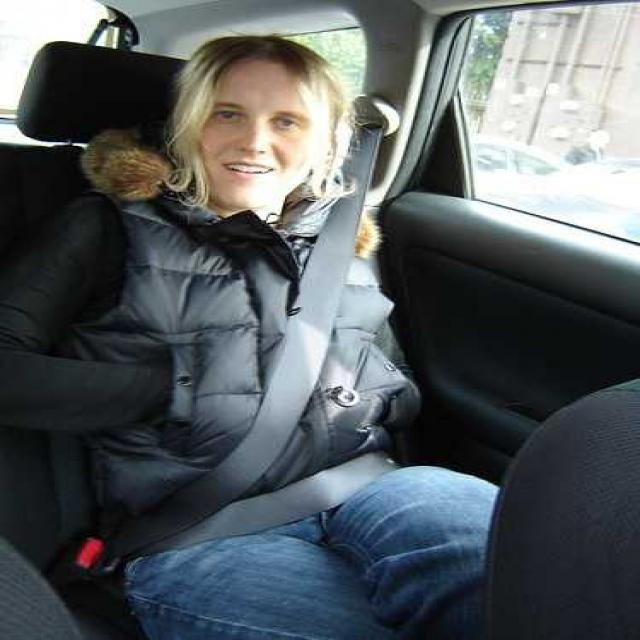seatbelt: (112, 90, 416, 540)
